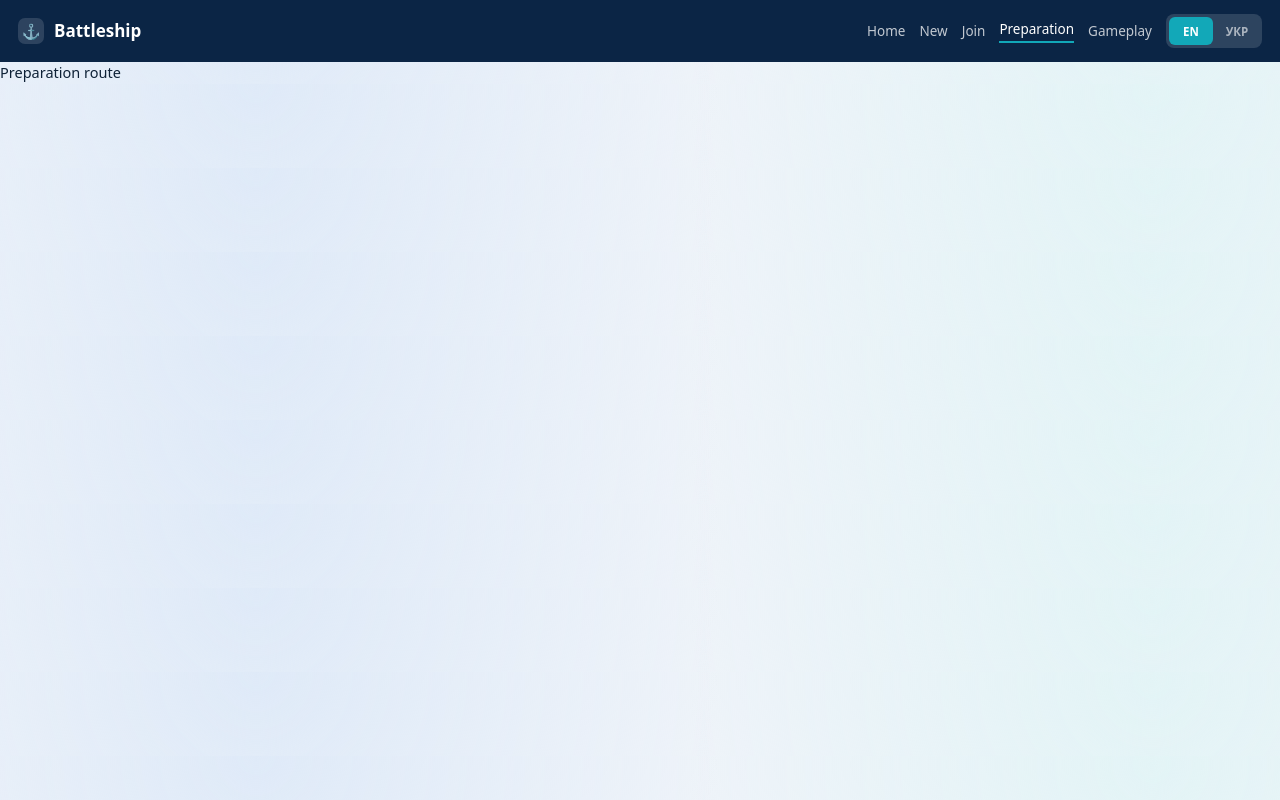
AppBar › Cancel closes the dialog and keeps the current route
This screenshot has width=1280, height=800.
Click the link "Home".
click(886, 31)  # box x1=867 y1=21 x2=906 y2=41
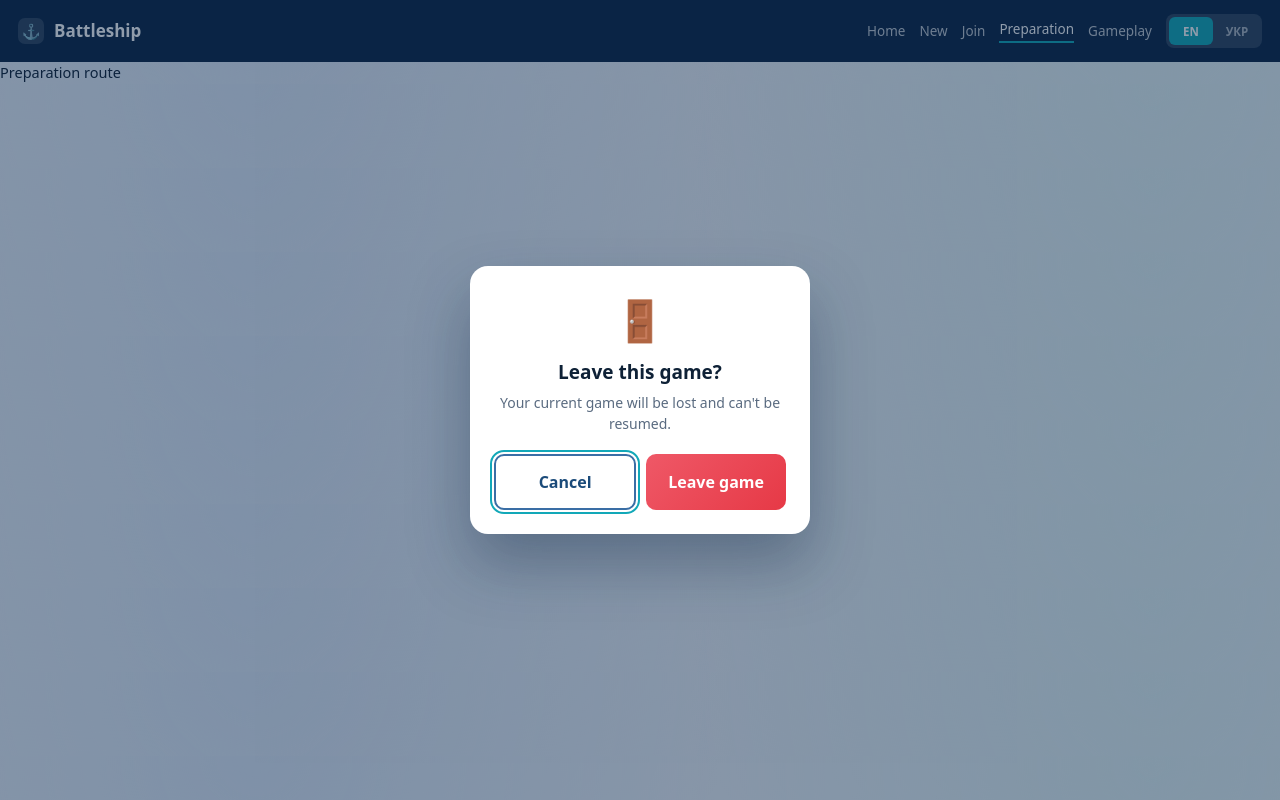
Click the button "Cancel".
click(565, 482)  # box x1=494 y1=454 x2=636 y2=510
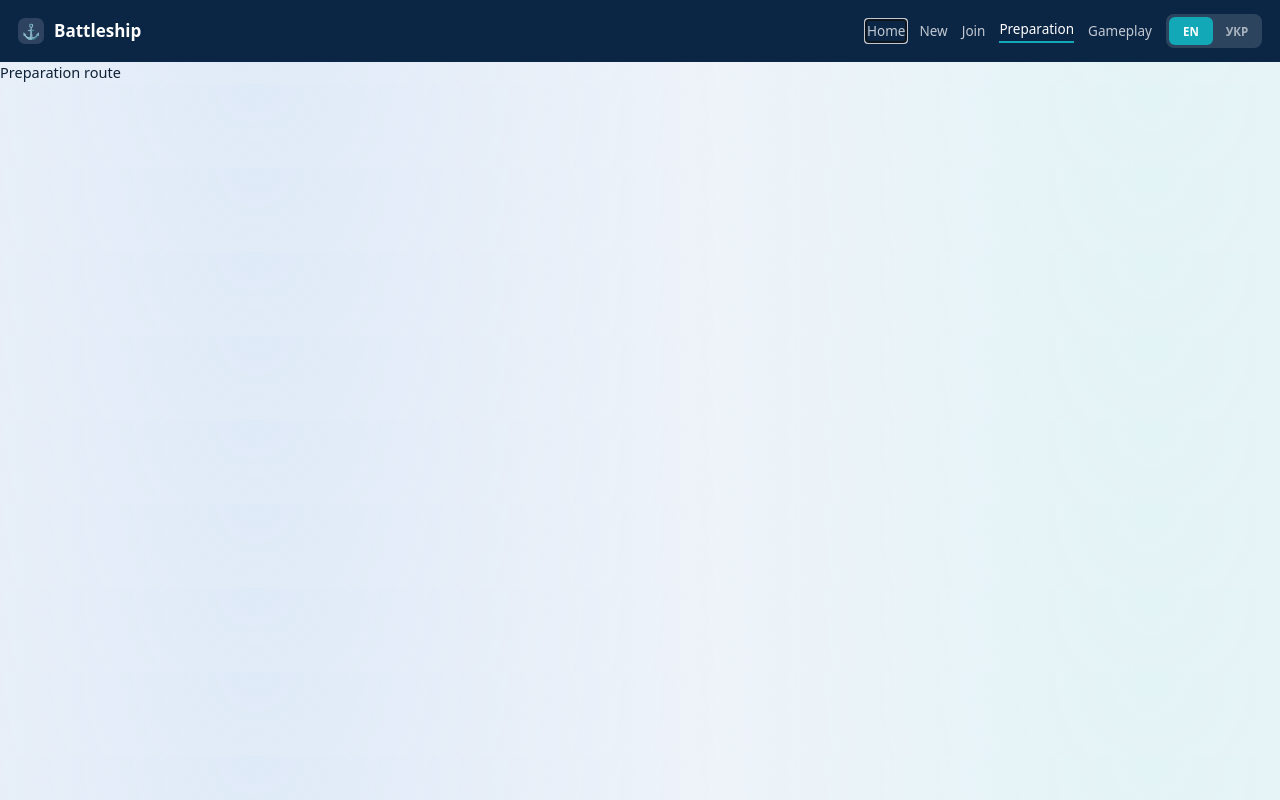
Check: the text "Preparation route" is shown, box x1=0 y1=62 x2=121 y2=82
Check: the dialog is gone
